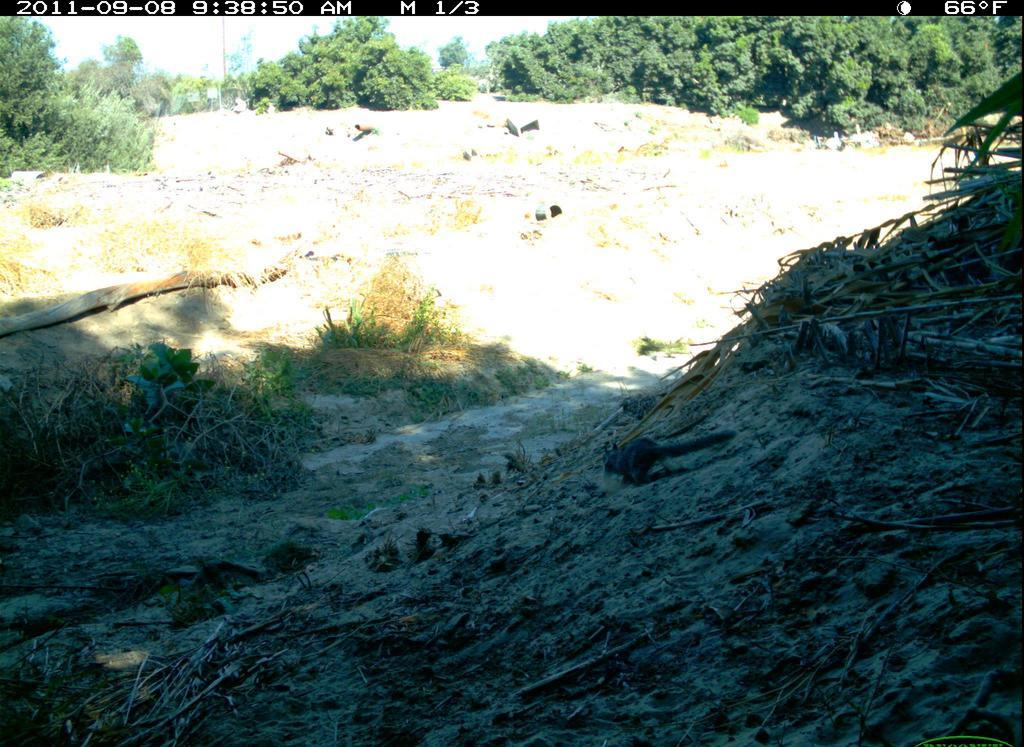squirrel: (600, 422, 745, 496)
